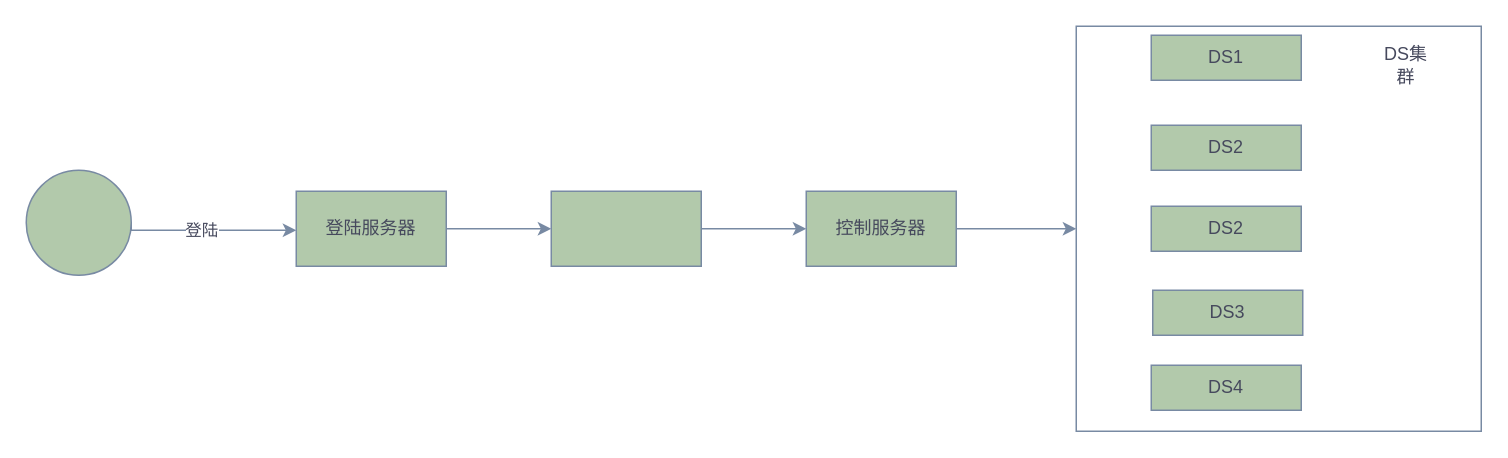
The diagram is 1508 pixels wide and 458 high, and some of its shapes have lost their labels. The shapes that lost their labels are listed below. From the top down, each one's centre as x and y in pixels, then its label:
(x=78, y=222): UE4客户端
(x=625, y=228): 世界服务器
